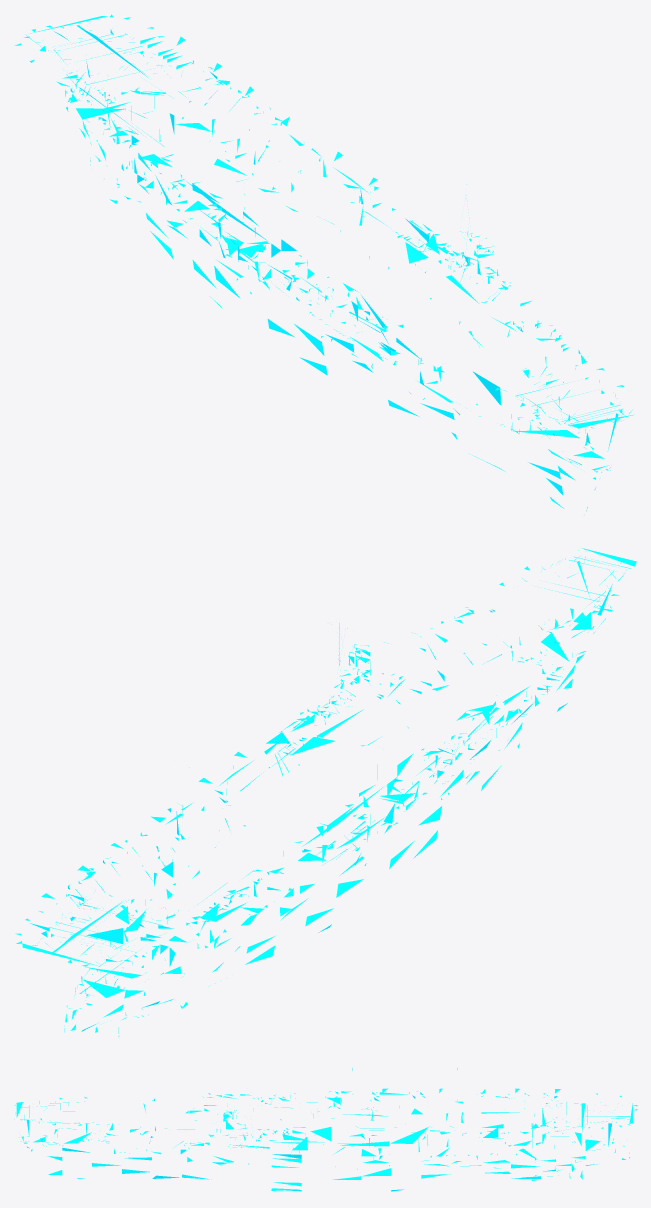
The model's file is Kaga.glb.
3 renders of one model, top to bottom at view 1: azimuth 30°, elevation 25°; view 2: azimuth 150°, elevation 25°; view 3: azimuth 270°, elevation 25°, orthographic. The views are drawn at different scales.
Bounding box in the file's own units: 3 × 3.45 × 16.68.
